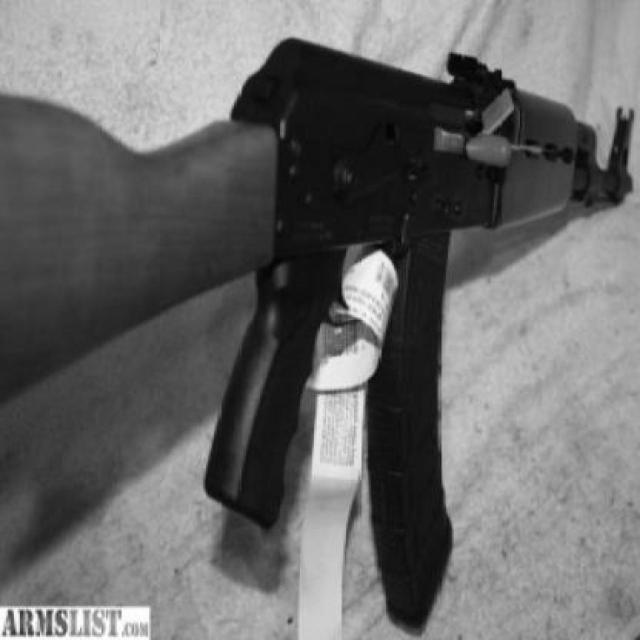weapon: (1, 38, 634, 627)
